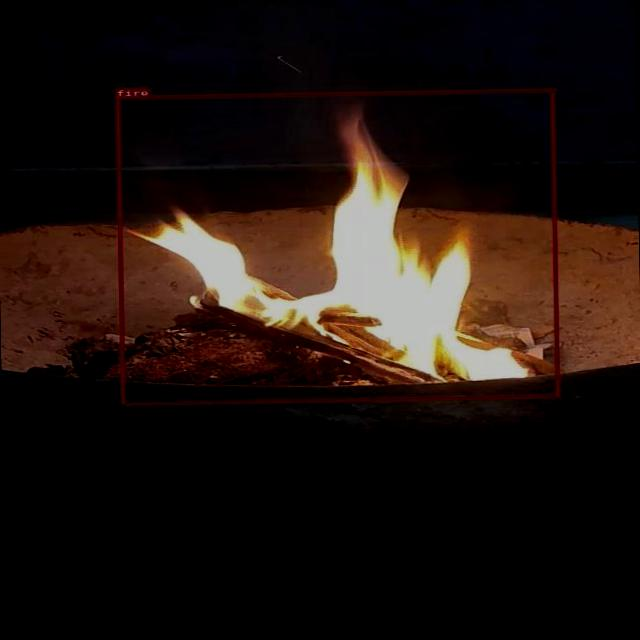fire: (114, 88, 558, 404)
